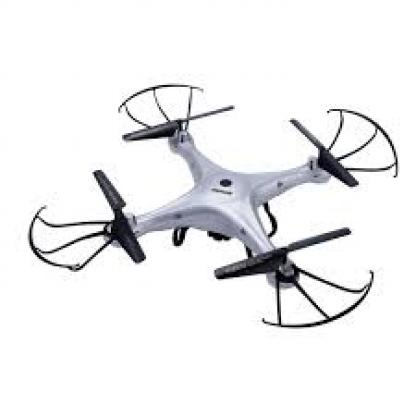drone: (24, 80, 407, 328)
